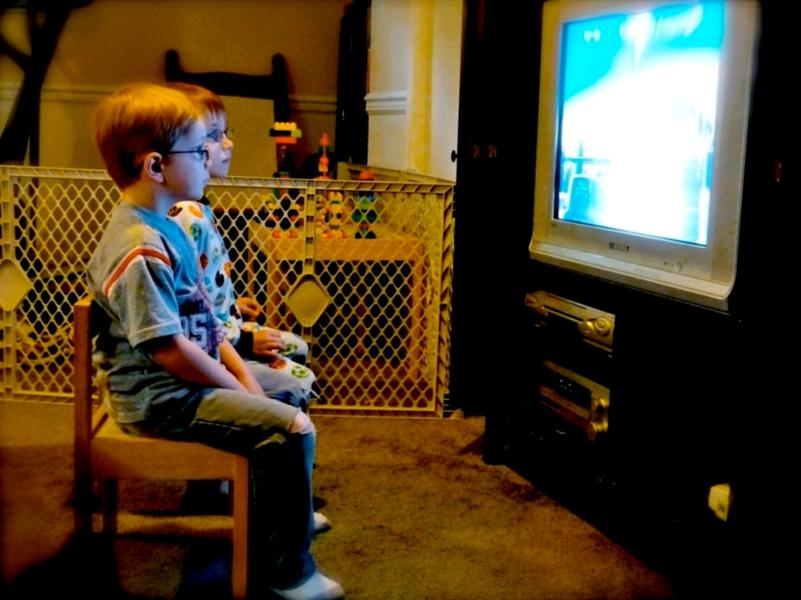person: (86, 85, 348, 598)
